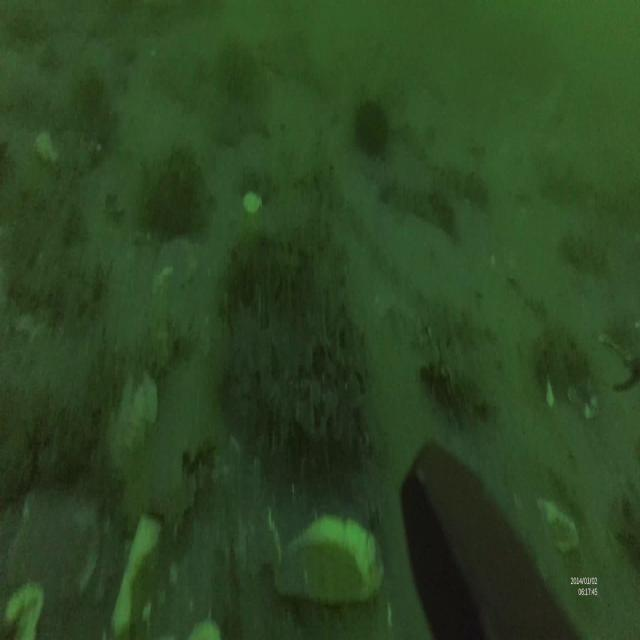echinus: (356, 96, 392, 157)
scallop: (270, 512, 387, 611), (0, 586, 44, 640)
